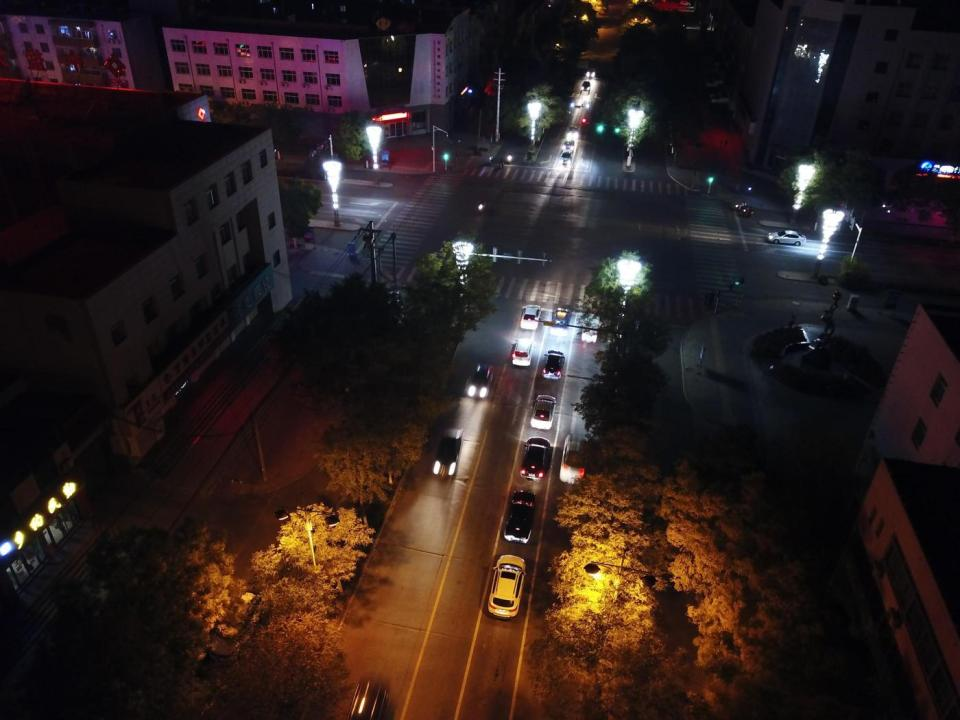car: (209, 590, 262, 662), (488, 554, 526, 620), (503, 490, 535, 544), (520, 437, 552, 482), (560, 436, 588, 484), (432, 429, 460, 475), (468, 362, 492, 398), (531, 395, 555, 429), (766, 229, 806, 246), (541, 350, 564, 378), (551, 306, 570, 334), (520, 304, 540, 330), (259, 147, 281, 160), (559, 151, 572, 165), (561, 140, 574, 151), (567, 126, 578, 138), (586, 65, 596, 77), (581, 81, 590, 91), (680, 0, 691, 6)
van: (512, 338, 533, 366), (581, 313, 599, 342)
